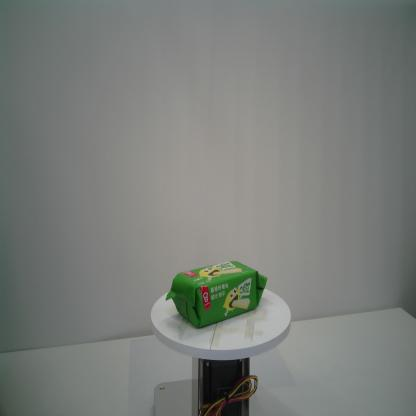Dessert: (165, 260, 268, 329)
